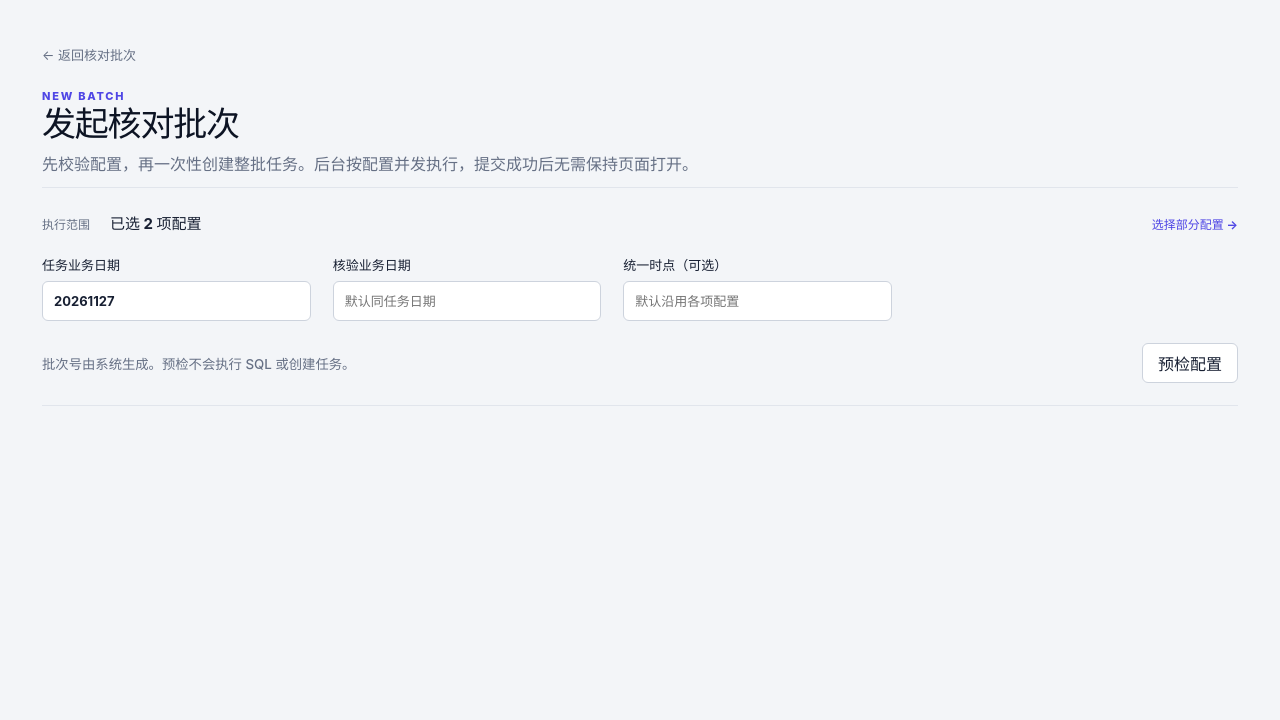
Test: submits all selected identifiers without limiting the set to one configuration page
Expected: the text "已选 2 项配置" is shown, [110,212,202,233]
Click the button "预检配置".
click(1190, 363)  # box [1142,343,1238,383]
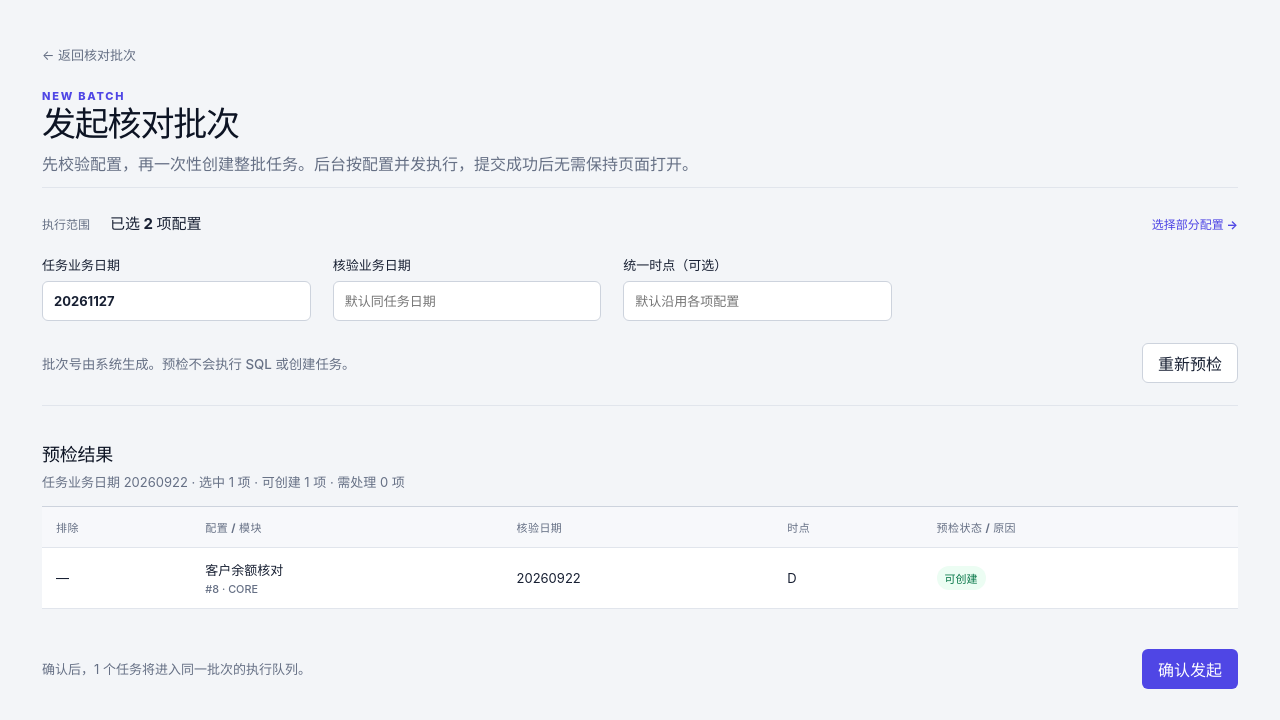
Expected: the button "确认发起" is shown, [1142,649,1238,689]
